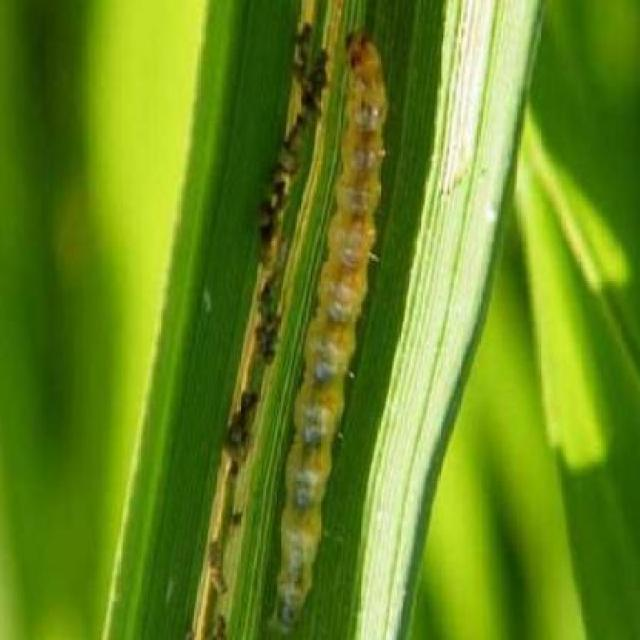leaf-folder: (278, 35, 392, 577)
